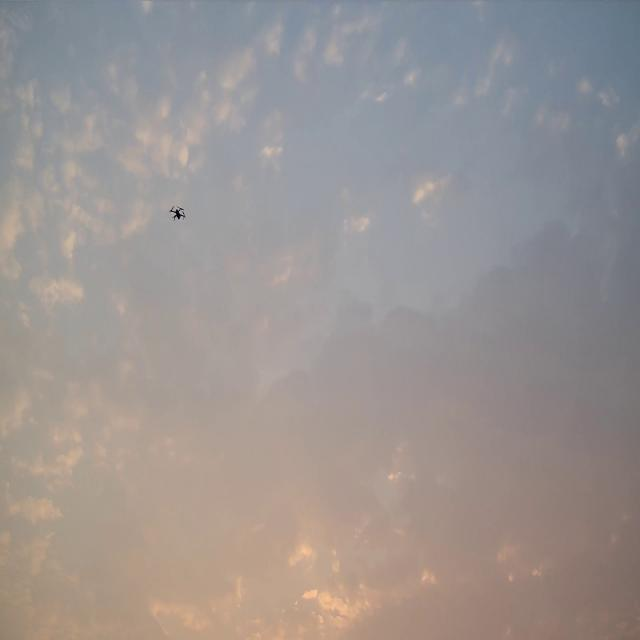drone: (168, 205, 186, 221)
